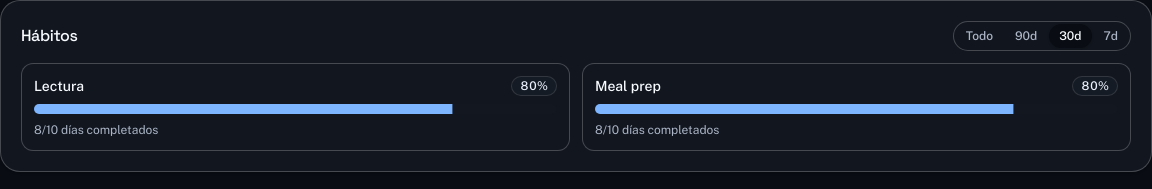
Test: HabitTrendsClient — which habits the range admits › drops it again when the range narrows
expect the text "Meal prep" is shown: met, box x1=595 y1=76 x2=661 y2=96
Click the tab "7d": [1111, 36] box x1=1094 y1=24 x2=1128 y2=48
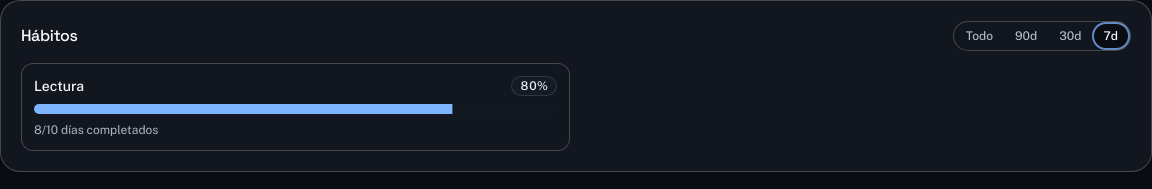
expect the text "Lectura" is shown: met, box x1=34 y1=76 x2=84 y2=96
expect the text "Meal prep" is gone: met
